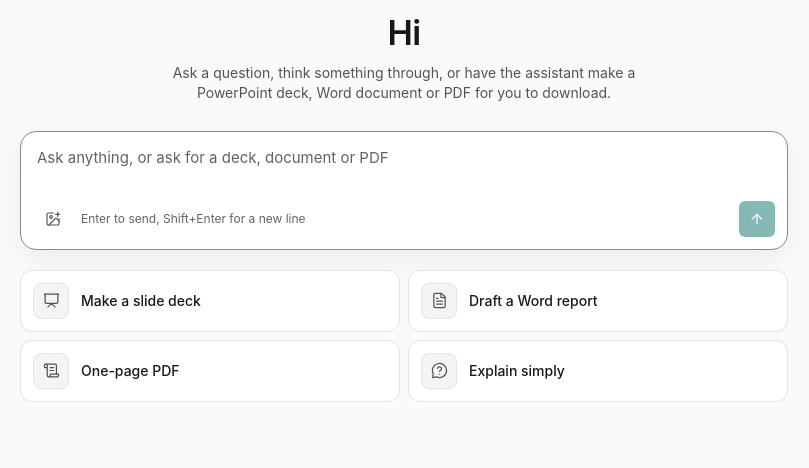
it: NewChat › fills the box from an idea and shows the server's error
What coordinates should you click on to do the following:
click the button "Make a slide deck"
I would click on:
 (51, 300)
Its box is [20,270,400,332].
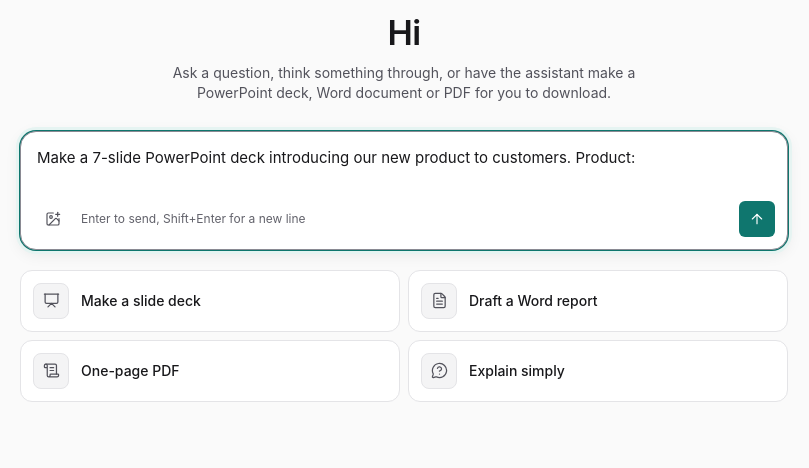
What coordinates should you click on to do the following:
click the button named "Send"
I would click on:
 (757, 218)
Its box is [739,200,775,236].
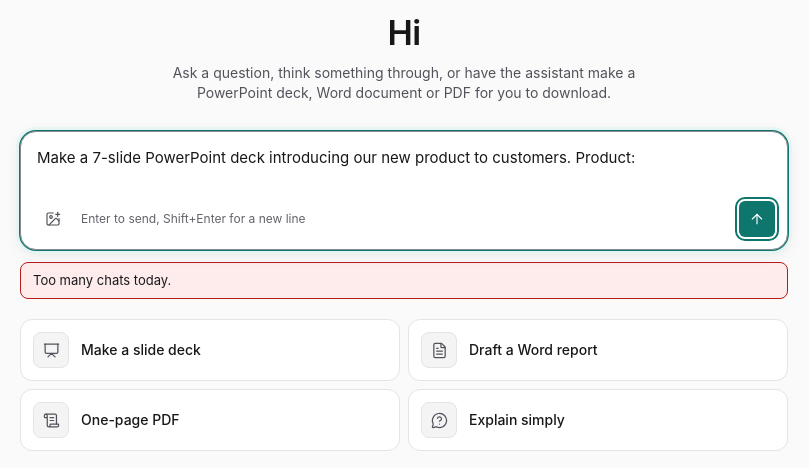
Expected: the message reads "Too many chats today.", [33,272,171,288]
